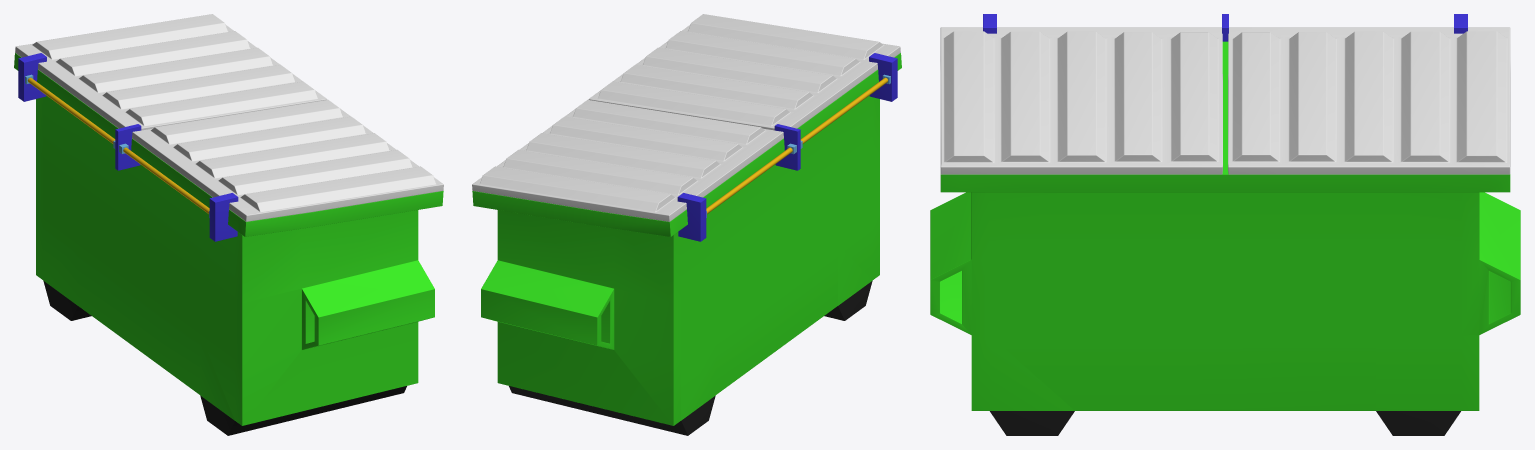
The model's file is Dumpster.fbx.
3 renders of one model, left to right at view 1: azimuth 30°, elevation 25°; view 2: azimuth 150°, elevation 25°; view 3: azimuth 270°, elevation 25°, orthographic. The views are drawn at different scales.
Parts seen in each view (by area): view 1: Dumpster; view 2: Dumpster; view 3: Dumpster.
Boxes of the visible parts, box(x1,y1,x2,y2) form: Dumpster: box(14, 14, 443, 435); Dumpster: box(472, 14, 901, 435); Dumpster: box(930, 14, 1520, 435).
Size of the model in its own units: 240 by 268 by 471.
